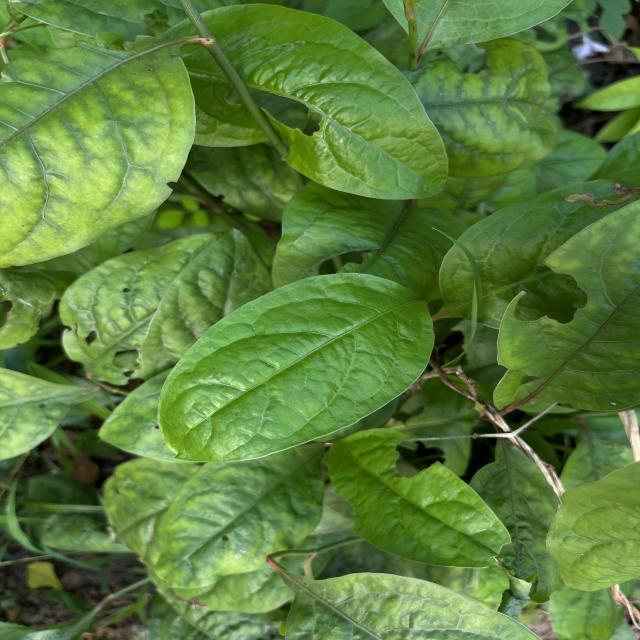Plumbago indica: (155, 269, 441, 467), (188, 2, 454, 202), (196, 1, 454, 202), (318, 424, 519, 570)
